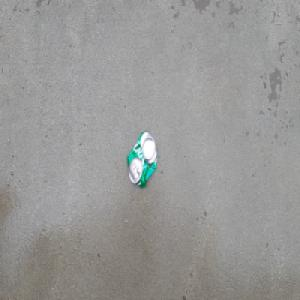SodaCan: (126, 129, 158, 189)
